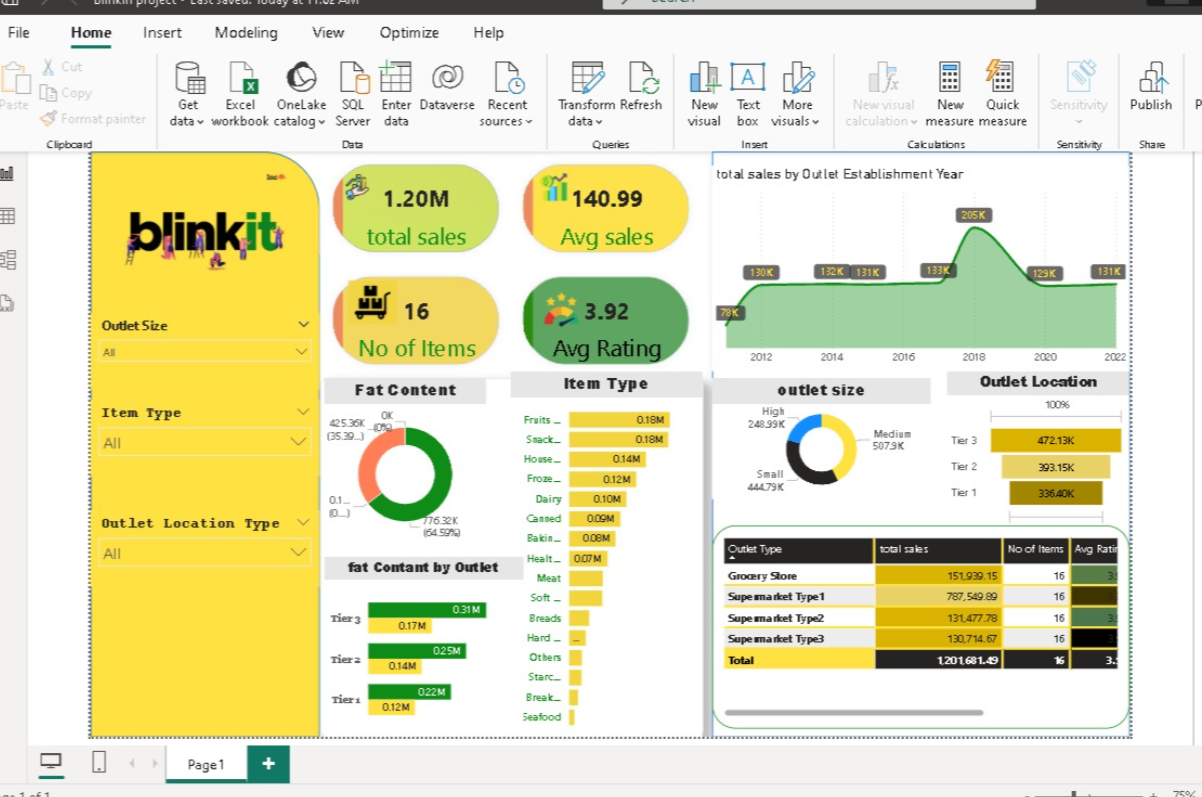

What the dashboard file says about the page in this screenshot:
{"tool":"powerbi","page":{"name":"Page 1","canvas":[1280,720],"ordinal":0},"visuals":[{"type":"shape","box":[0,0,282.2,720.5],"z":0},{"type":"image","box":[28.2,17.9,225.6,167.9],"z":1000},{"type":"cardVisual","fields":{"Data":["BlinkIT Grocery Data.total sales","BlinkIT Grocery Data.Avg sales","BlinkIT Grocery Data.No of Items","BlinkIT Grocery Data.Avg Rating"]},"box":[282.1,0,471.8,278.2],"z":2000},{"type":"image","box":[307.7,17.9,41,53.8],"z":3000},{"type":"image","box":[544.9,17.9,48.7,53.8],"z":4000},{"type":"image","box":[317.9,159,60.3,53.8],"z":5000},{"type":"image","box":[553.8,167.9,52.6,53.8],"z":6000},{"type":"shape","box":[282,278,472,442],"z":7000},{"type":"donutChart","title":" Fat Content","fields":{"Y":["BlinkIT Grocery Data.total sales","BlinkIT Grocery Data.Avg sales","BlinkIT Grocery Data.No of Items","BlinkIT Grocery Data.total sales","BlinkIT Grocery Data.Avg Rating"],"Category":["BlinkIT Grocery Data.Item Fat Content"]},"box":[288.5,278.2,198.7,210.3],"z":8000},{"type":"barChart","title":" Item Type","fields":{"Category":["BlinkIT Grocery Data.Item Type"],"Y":["Sum(BlinkIT Grocery Data.Sales)"]},"box":[517.9,270.5,235.9,450],"z":9000},{"type":"clusteredBarChart","title":" fat Contant by Outlet ","fields":{"Category":["BlinkIT Grocery Data.Outlet Location Type"],"Y":["BlinkIT Grocery Data.total sales"],"Series":["BlinkIT Grocery Data.Item Fat Content"]},"box":[288.5,498.7,244.9,221.8],"z":10000},{"type":"shape","box":[765.4,0,514.1,720.5],"z":11000},{"type":"lineChart","fields":{"Y":["BlinkIT Grocery Data.total sales"],"Category":["BlinkIT Grocery Data.Outlet Establishment Year"]},"box":[765.4,17.9,514.1,252.6],"z":12000},{"type":"donutChart","title":"outlet size","fields":{"Y":["BlinkIT Grocery Data.total sales"],"Category":["BlinkIT Grocery Data.Outlet Size"]},"box":[765.4,278.2,269.2,148.7],"z":13000},{"type":"funnel","title":" Outlet Location ","fields":{"Category":["BlinkIT Grocery Data.Outlet Location Type"],"Y":["BlinkIT Grocery Data.total sales"]},"box":[1055.1,270.5,224.4,210.3],"z":14000},{"type":"pivotTable","fields":{"Rows":["BlinkIT Grocery Data.Outlet Type"],"Values":["BlinkIT Grocery Data.total sales","BlinkIT Grocery Data.No of Items","BlinkIT Grocery Data.Avg Rating","Sum(BlinkIT Grocery Data.Item Visibility)"]},"box":[765.4,460.3,514.1,250],"z":15000},{"type":"slicer","fields":{"Values":["BlinkIT Grocery Data.Outlet Size"]},"box":[0,198.7,282.1,93.6],"z":16000},{"type":"slicer","fields":{"Values":["BlinkIT Grocery Data.Item Type"]},"box":[0,305.1,282.1,93.6],"z":17000},{"type":"slicer","fields":{"Values":["BlinkIT Grocery Data.Outlet Location Type"]},"box":[0,441,282.1,93.6],"z":18000}]}

Visuals, with their boxes on the page's 1280x720 design canvas (x1, y1, x2, y2). These are canvas units, not pixel positions in the 1202x797 screenshot, which may show the page scaled, cropped or inside an application window:
shape: 0/0/282/720
image: 28/18/254/186
cardVisual - BlinkIT Grocery Data.total sales x BlinkIT Grocery Data.Avg sales: 282/0/754/278
image: 308/18/349/72
image: 545/18/594/72
image: 318/159/378/213
image: 554/168/606/222
shape: 282/278/754/720
" Fat Content" donutChart: 288/278/487/488
" Item Type" barChart: 518/270/754/720
" fat Contant by Outlet " clusteredBarChart: 288/499/533/720
shape: 765/0/1280/720
lineChart - BlinkIT Grocery Data.total sales x BlinkIT Grocery Data.Outlet Establishment Year: 765/18/1280/270
"outlet size" donutChart: 765/278/1035/427
" Outlet Location " funnel: 1055/270/1280/481
pivotTable - BlinkIT Grocery Data.Outlet Type x BlinkIT Grocery Data.total sales: 765/460/1280/710
slicer - BlinkIT Grocery Data.Outlet Size: 0/199/282/292
slicer - BlinkIT Grocery Data.Item Type: 0/305/282/399
slicer - BlinkIT Grocery Data.Outlet Location Type: 0/441/282/535
